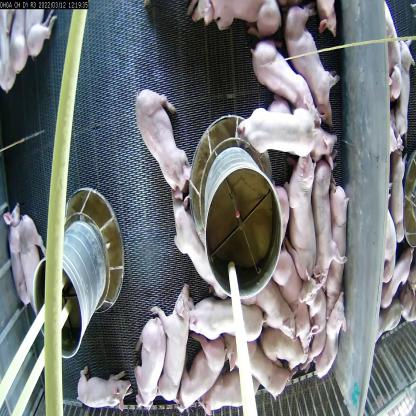Pig: (286, 7, 340, 125), (252, 38, 313, 131), (152, 281, 194, 414), (281, 134, 317, 287), (195, 0, 287, 51), (310, 131, 342, 275), (195, 290, 264, 347), (272, 242, 306, 346), (231, 334, 288, 396), (242, 104, 320, 149), (73, 362, 133, 415), (254, 270, 298, 342), (133, 319, 168, 405), (327, 180, 350, 302), (201, 370, 259, 415), (178, 339, 220, 397), (4, 200, 26, 308), (257, 322, 306, 370), (19, 214, 42, 312), (320, 301, 338, 380)
